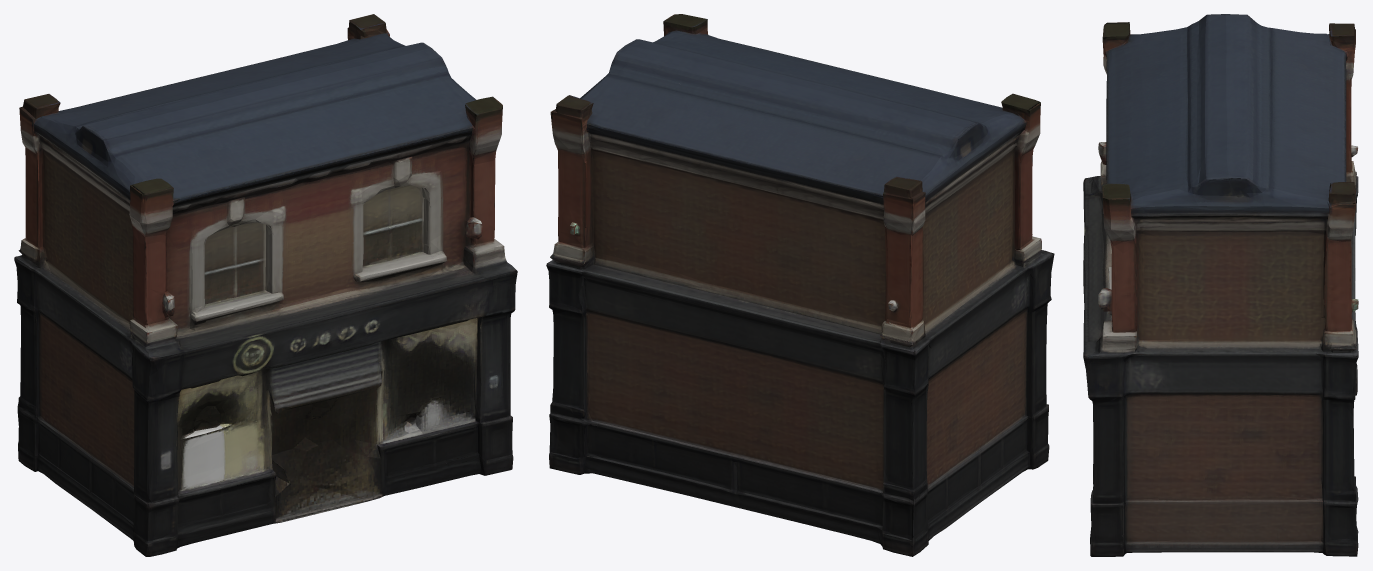
The model's file is building.circuit.glb.
The picture shows the model from 3 angles, left to right: view 1: azimuth 30°, elevation 25°; view 2: azimuth 150°, elevation 25°; view 3: azimuth 270°, elevation 25°; orthographic projection.
Parts seen in each view (by area): view 1: geometry_0; view 2: geometry_0; view 3: geometry_0.
Boxes of the visible parts, x1,y1,x2,y2 form: geometry_0: (14,14,517,556); geometry_0: (546,14,1054,556); geometry_0: (1083,14,1358,556).
Bounding box in the file's own units: 0.4898 × 0.4779 × 0.3185.
1 material, 1 textured.
